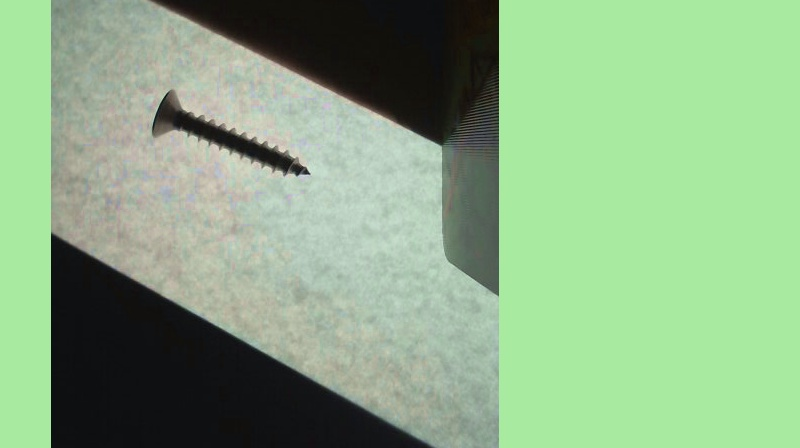S001: (148, 88, 312, 180)
